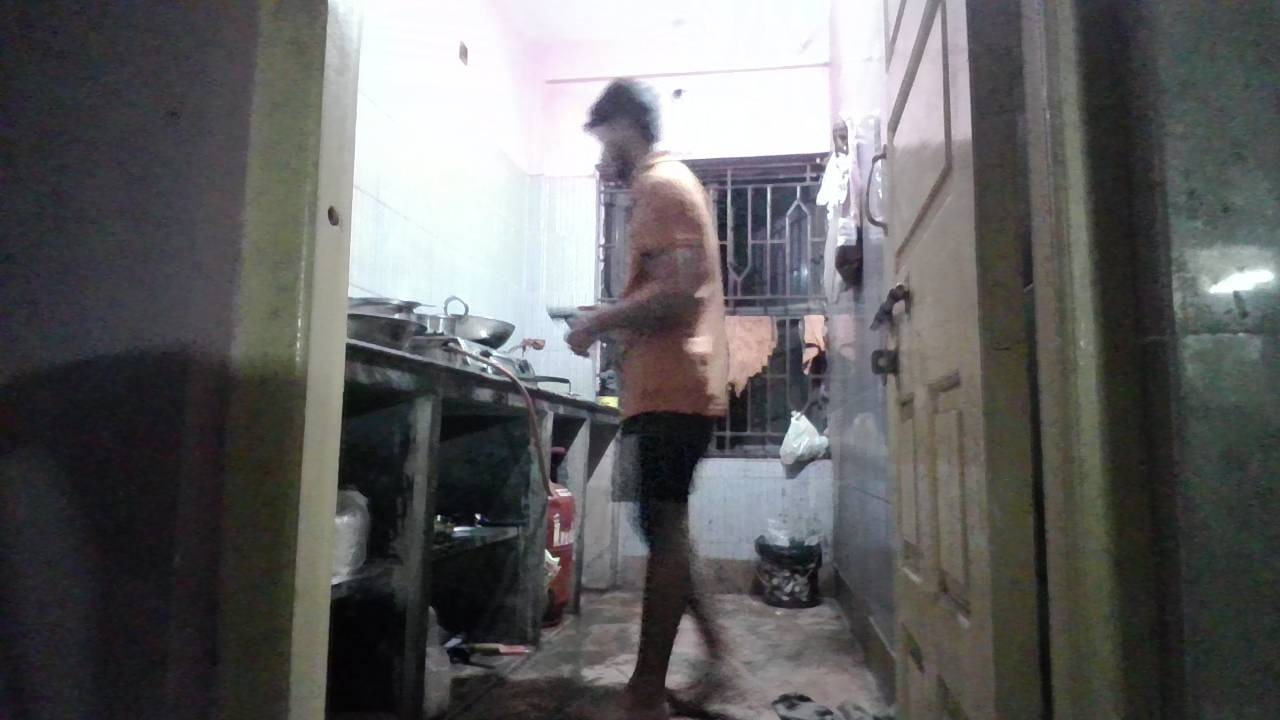red_box: (633, 357, 712, 416)
